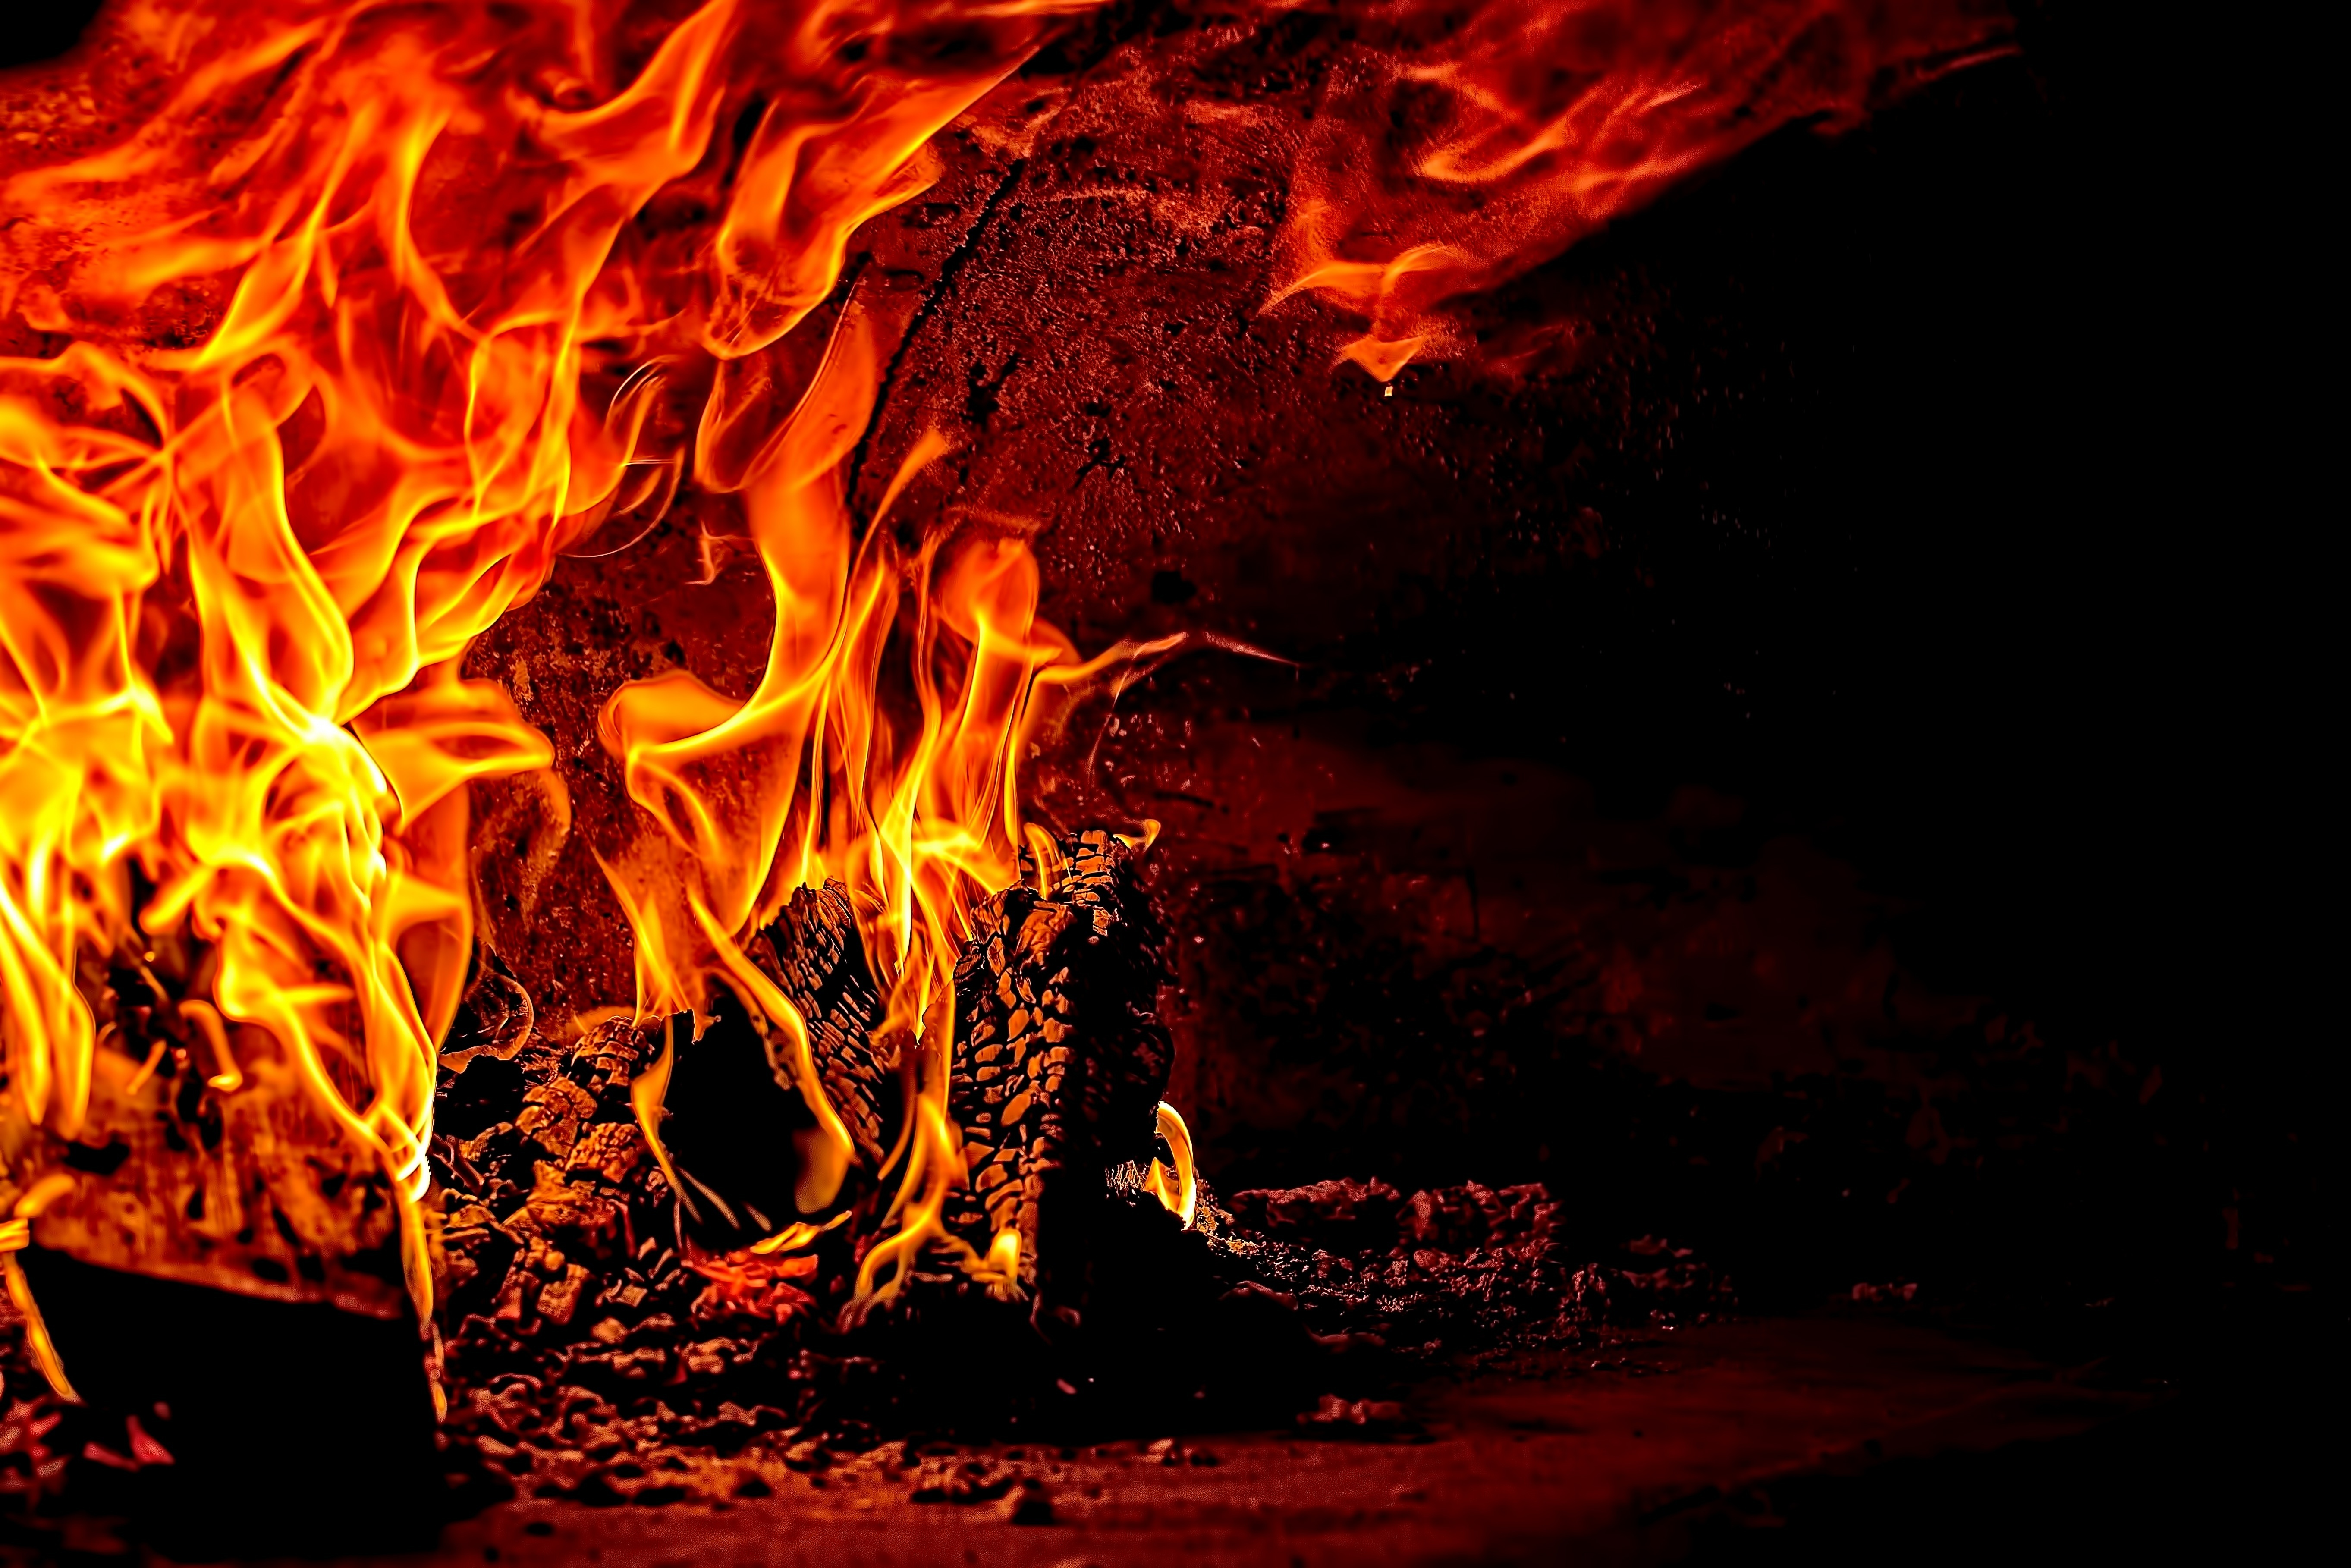fire: (3, 47, 1198, 1369)
